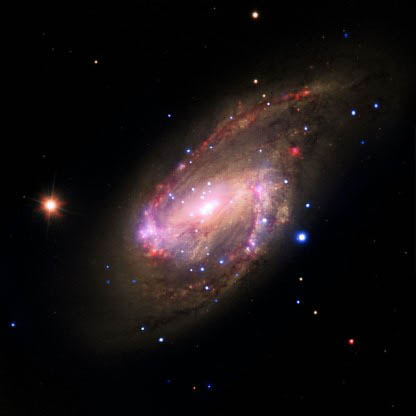Messier 66: (45, 52, 380, 329)
